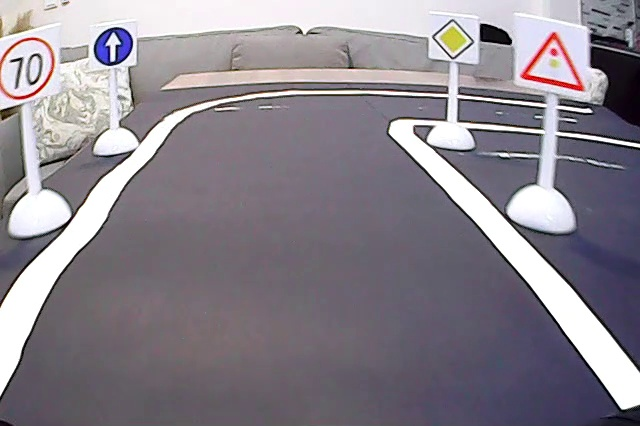red light: (518, 19, 583, 92)
speed limit 70: (1, 38, 58, 103)
